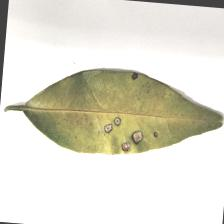canker: (84, 109, 162, 155)
